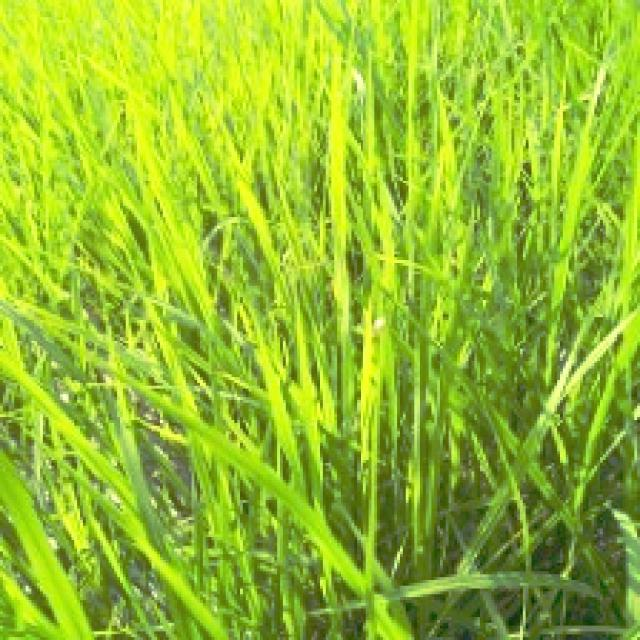health: (0, 0, 607, 601)
